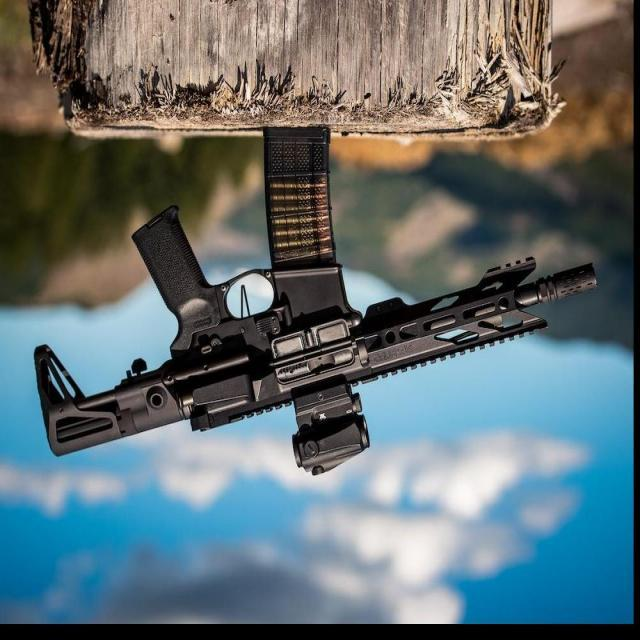weapon: (34, 126, 601, 478)
